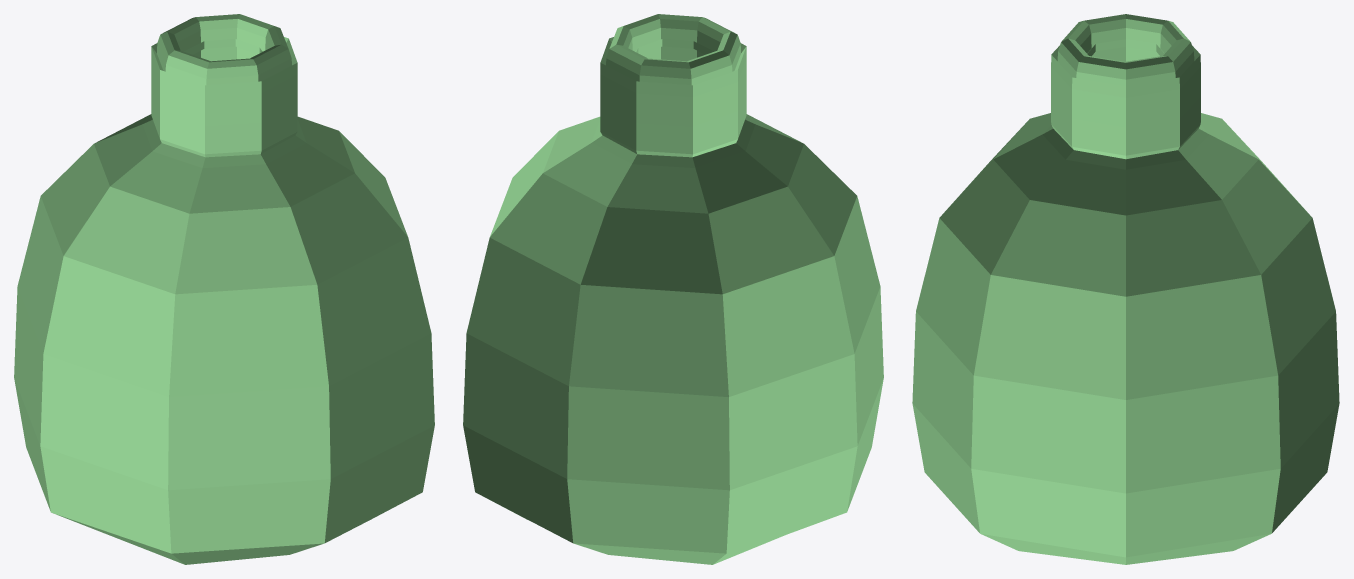
The model's file is Vase 4.fbx.
The picture shows the model from 3 angles, left to right: view 1: azimuth 30°, elevation 25°; view 2: azimuth 150°, elevation 25°; view 3: azimuth 270°, elevation 25°; orthographic projection.
Visible parts, largest first — view 1: Node 0; view 2: Node 0; view 3: Node 0.
Boxes of the visible parts, left/top/right/bottom form: Node 0: left=14, top=14, right=434, bottom=564; Node 0: left=463, top=14, right=883, bottom=564; Node 0: left=912, top=14, right=1339, bottom=564.
Bounding box in the file's own units: 0.2232 × 0.2766 × 0.2232.
